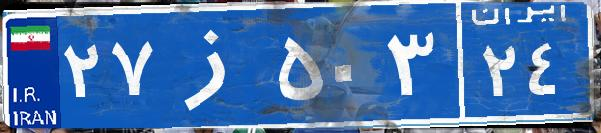0: (330, 28, 385, 110)
2: (57, 26, 110, 107), (475, 38, 525, 113)
3: (385, 28, 445, 110)
4: (525, 38, 570, 115)
5: (273, 28, 330, 110)
7: (110, 28, 158, 105)
ز: (158, 15, 273, 115)
